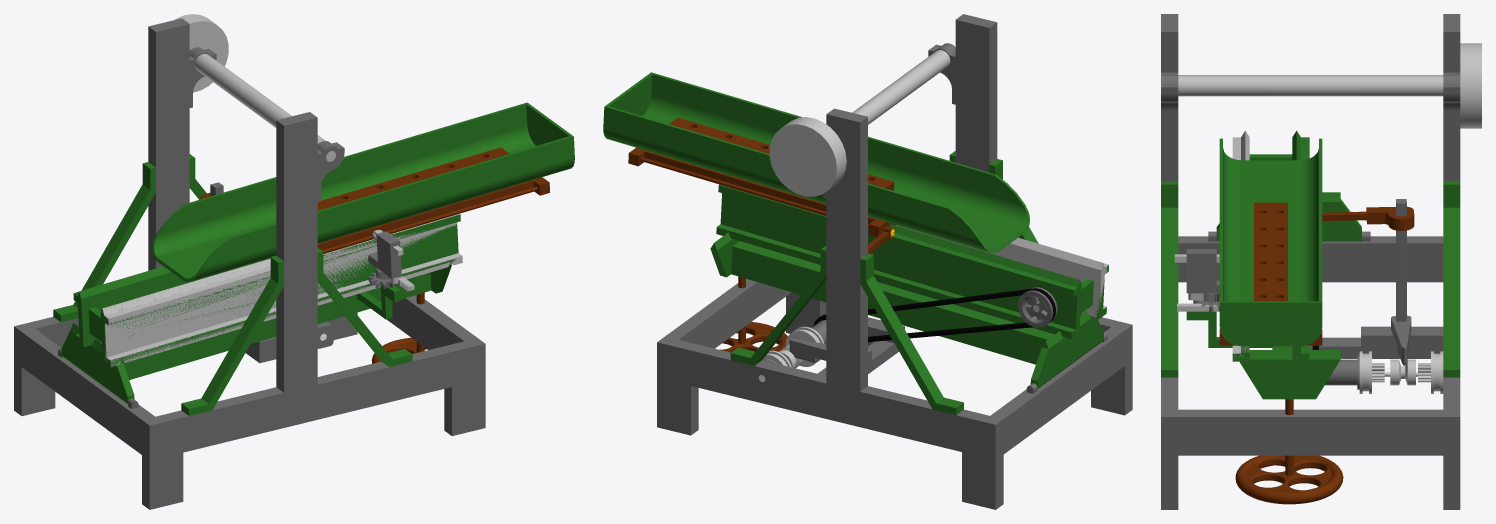
Rendered from Rectificadora Plana GLTF.gltf.
The picture shows the model from 3 angles, left to right: view 1: azimuth 30°, elevation 25°; view 2: azimuth 150°, elevation 25°; view 3: azimuth 270°, elevation 25°; orthographic projection. The views are drawn at different scales.
Parts seen in each view (by area): view 1: Cortar-Extruir9, Cortar-Extruir2, Obj_Cortar-Extruir1_1, Saliente-Extruir6, Cortar-Extruir1, Cortar-Extruir5, Saliente-Extruir4, Obj_Saliente-Extruir1_3, Cortar-Extruir1_1, Obj_Saliente-Extruir1_2, Obj_Saliente-Extruir1, Obj_Cortar-Extruir1_2 (+2 smaller); view 2: Cortar-Extruir9, Cortar-Extruir2, Obj_Cortar-Extruir1_2, Saliente-Extruir6, Saliente-Extruir4, Cortar-Extruir5, Cortar-Extruir1_1, Obj_Saliente-Extruir1_2, Obj_Cortar-Extruir1_1, Barrer1, Obj_Saliente-Extruir1_1, Obj_MatrizC1_1 (+2 smaller); view 3: Cortar-Extruir9, Cortar-Extruir2, Saliente-Extruir4, Saliente-Extruir6, Redondeo2, Cortar-Extruir5, Obj_Saliente-Extruir1_1, Obj_Saliente-Extruir1, Obj_Cortar-Extruir2_2, Saliente-Extruir2, Redondeo1, Obj_Cortar-Extruir1_3_1 (+9 smaller).
Part boxes in pixels (bbox=[...]): Cortar-Extruir9: bbox=[14, 18, 485, 509]; Cortar-Extruir2: bbox=[152, 102, 574, 282]; Obj_Cortar-Extruir1_1: bbox=[102, 213, 462, 366]; Saliente-Extruir6: bbox=[61, 262, 451, 403]; Cortar-Extruir1: bbox=[100, 214, 460, 366]; Cortar-Extruir5: bbox=[317, 147, 549, 253]; Saliente-Extruir4: bbox=[174, 14, 335, 161]; Obj_Saliente-Extruir1_3: bbox=[181, 255, 283, 415]; Cortar-Extruir1_1: bbox=[74, 258, 270, 347]; Obj_Saliente-Extruir1_2: bbox=[53, 162, 155, 322]; Obj_Saliente-Extruir1: bbox=[317, 248, 412, 366]; Obj_Cortar-Extruir1_2: bbox=[73, 258, 269, 346]; Cortar-Extruir9: bbox=[657, 14, 1132, 509]; Cortar-Extruir2: bbox=[603, 72, 1029, 253]; Obj_Cortar-Extruir1_2: bbox=[716, 184, 1081, 339]; Saliente-Extruir6: bbox=[710, 232, 1103, 388]; Saliente-Extruir4: bbox=[769, 50, 950, 196]; Cortar-Extruir5: bbox=[628, 117, 895, 236]; Cortar-Extruir1_1: bbox=[719, 199, 1079, 332]; Obj_Saliente-Extruir1_2: bbox=[860, 253, 963, 414]; Obj_Cortar-Extruir1_1: bbox=[896, 225, 1108, 318]; Barrer1: bbox=[813, 288, 1055, 342]; Obj_Saliente-Extruir1_1: bbox=[730, 245, 826, 365]; Obj_MatrizC1_1: bbox=[1018, 287, 1057, 327]; Cortar-Extruir9: bbox=[1161, 14, 1460, 509]; Cortar-Extruir2: bbox=[1219, 138, 1322, 346]; Saliente-Extruir4: bbox=[1178, 43, 1481, 128]; Saliente-Extruir6: bbox=[1186, 192, 1361, 399]; Redondeo2: bbox=[1235, 399, 1343, 504]; Cortar-Extruir5: bbox=[1219, 202, 1322, 345]; Obj_Saliente-Extruir1_1: bbox=[1443, 181, 1460, 377]; Obj_Saliente-Extruir1: bbox=[1161, 181, 1178, 377]; Obj_Cortar-Extruir2_2: bbox=[1186, 249, 1219, 293]; Saliente-Extruir2: bbox=[1396, 199, 1406, 321]; Redondeo1: bbox=[1366, 206, 1414, 230]; Obj_Cortar-Extruir1_3_1: bbox=[1418, 351, 1443, 393].
Bounding box in the file's own units: 1.72 × 1.25 × 0.9375.
